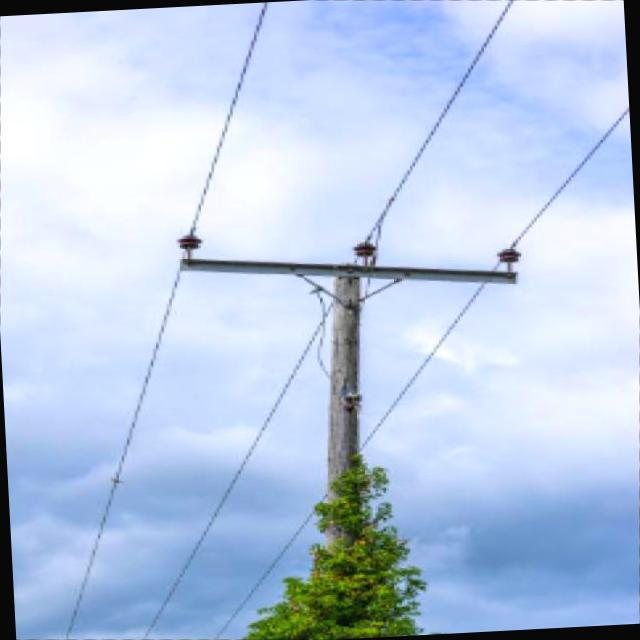light_pole: (276, 442, 415, 640)
